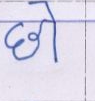e_matra: (43, 2, 58, 20)
